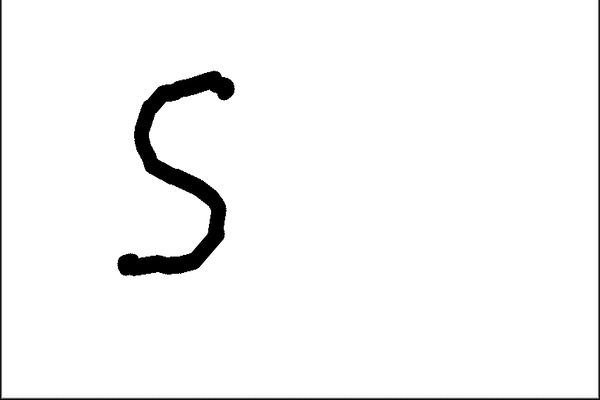S: (112, 66, 236, 279)
